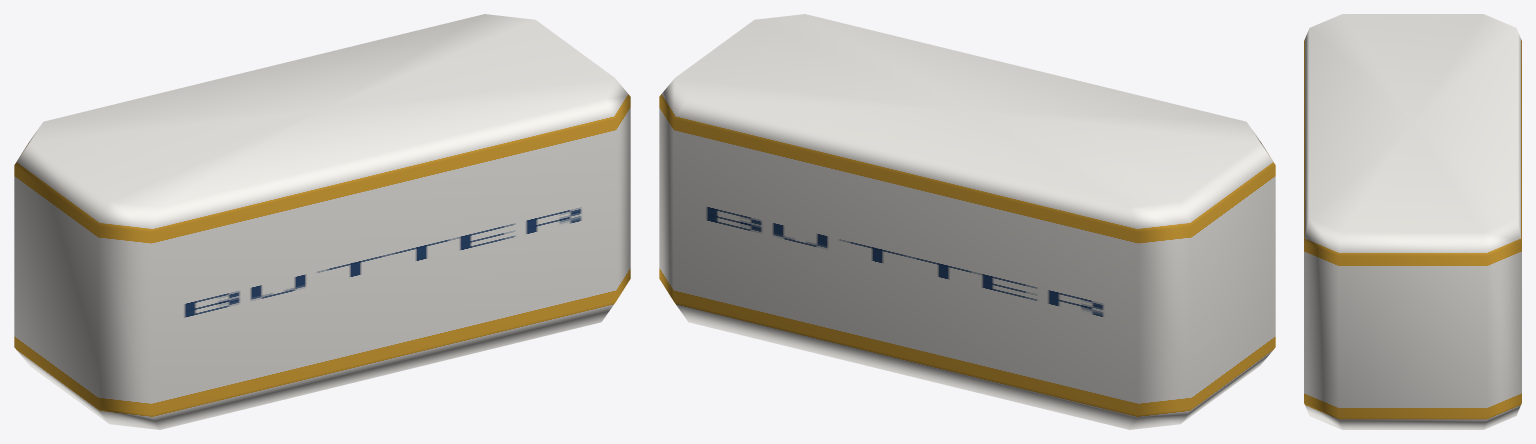
The model's file is butter_stick.obj.
The picture shows the model from 3 angles, left to right: view 1: azimuth 30°, elevation 25°; view 2: azimuth 150°, elevation 25°; view 3: azimuth 270°, elevation 25°; orthographic projection. The views are drawn at different scales.
Parts seen in each view (by area): view 1: butter_stick; view 2: butter_stick; view 3: butter_stick.
Boxes of the visible parts, x1,y1,x2,y2 form: butter_stick: [14, 14, 630, 429]; butter_stick: [659, 14, 1275, 429]; butter_stick: [1304, 14, 1521, 429].
Bounding box in the file's own units: 1.1 × 0.44 × 0.44.
